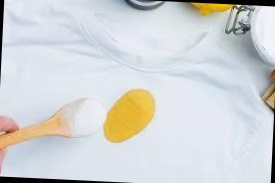mustard: (114, 86, 156, 143), (106, 105, 123, 145), (104, 120, 129, 138)
